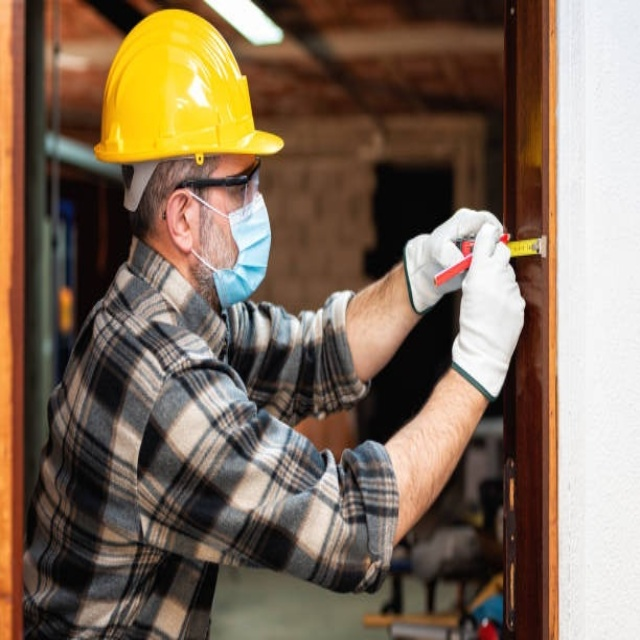Gafas: (164, 155, 265, 205)
Guantes: (449, 220, 523, 403), (401, 202, 500, 320)
Mascara: (197, 178, 272, 307)
